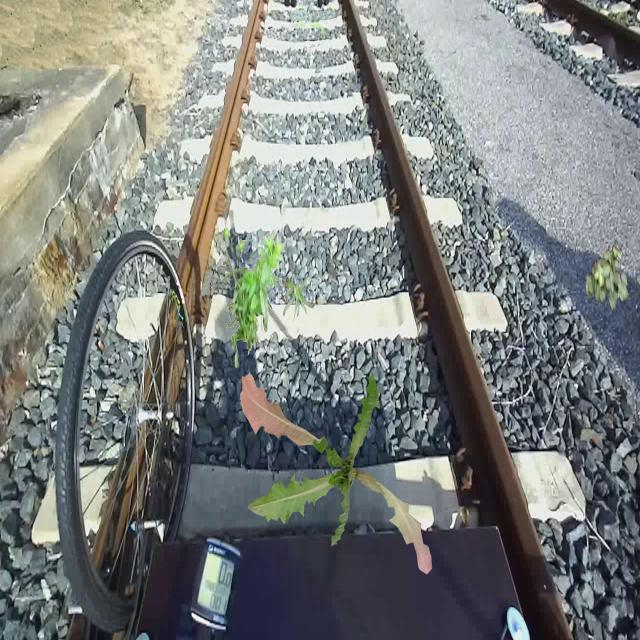Plant: (240, 372, 432, 574), (221, 225, 286, 368), (585, 245, 628, 312), (283, 276, 316, 322)
